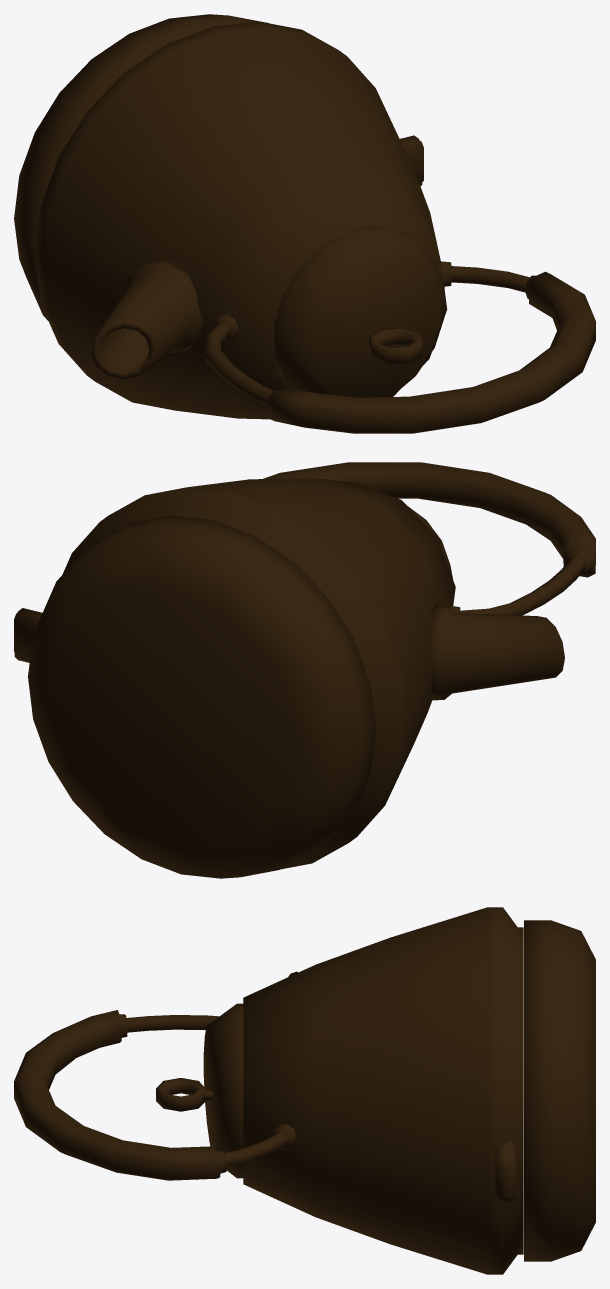
3 views of the same model, one above another, from view 1: azimuth 30°, elevation 25°; view 2: azimuth 150°, elevation 25°; view 3: azimuth 270°, elevation 25° (orthographic). The views are drawn at different scales.
Bounding box in the file's own units: 0.7856 × 0.634 × 1.
